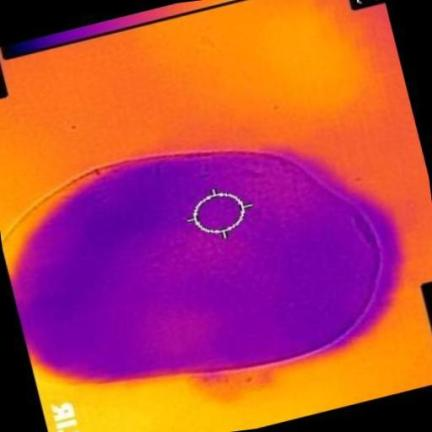mango: (6, 152, 393, 382)
